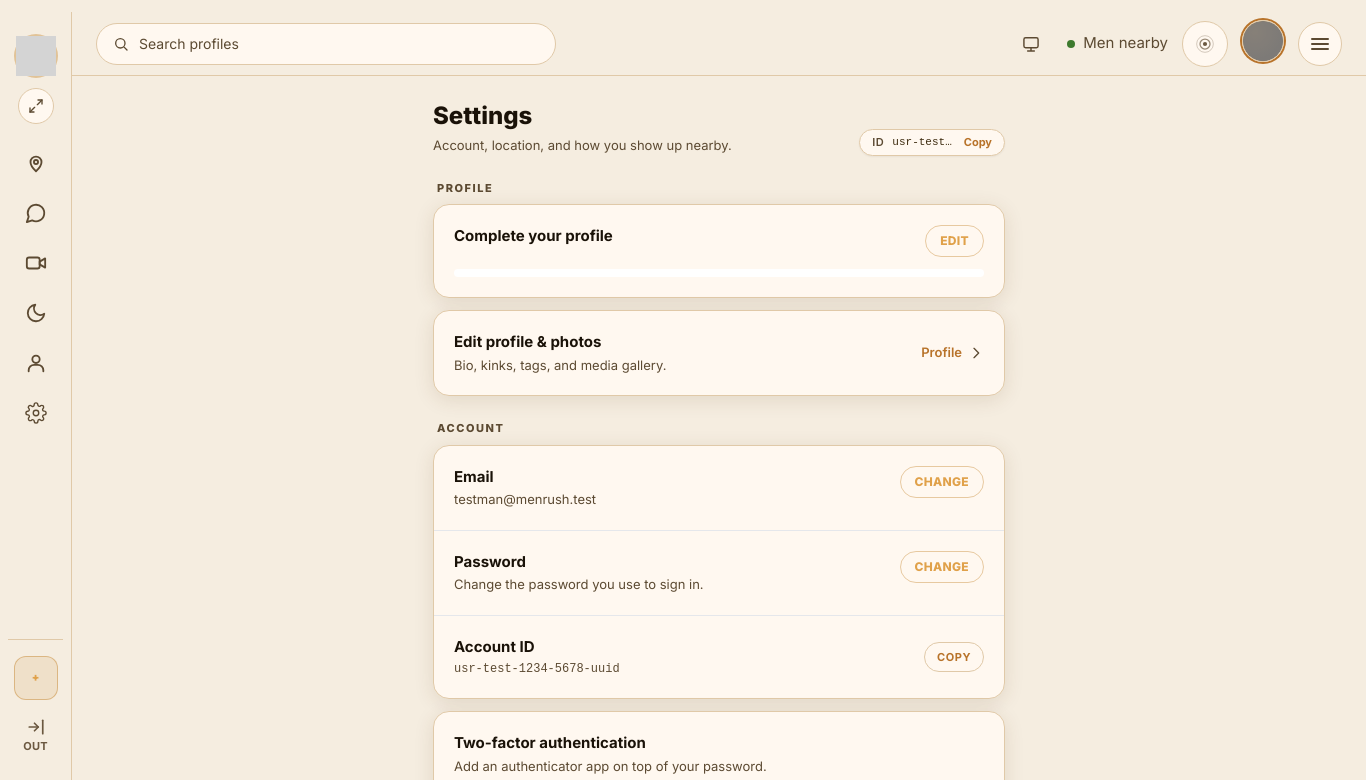
it: Settings IA reorganisation (phone-first sectioned) › allows copying Account ID to clipboard
Click the 1st button "Copy": (978, 142) 964,134 -> 992,150
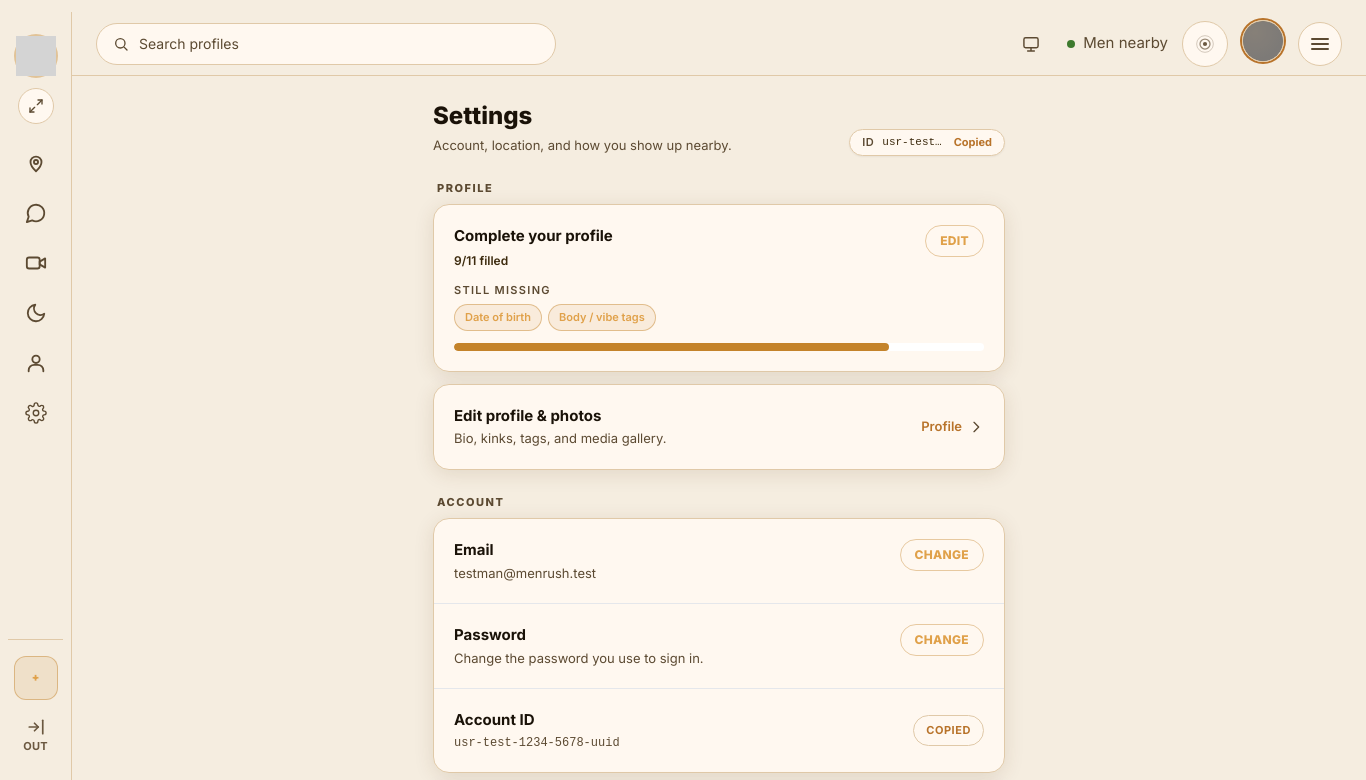
Expected: the 1st button "Copied" is shown, 954,134 -> 992,150
